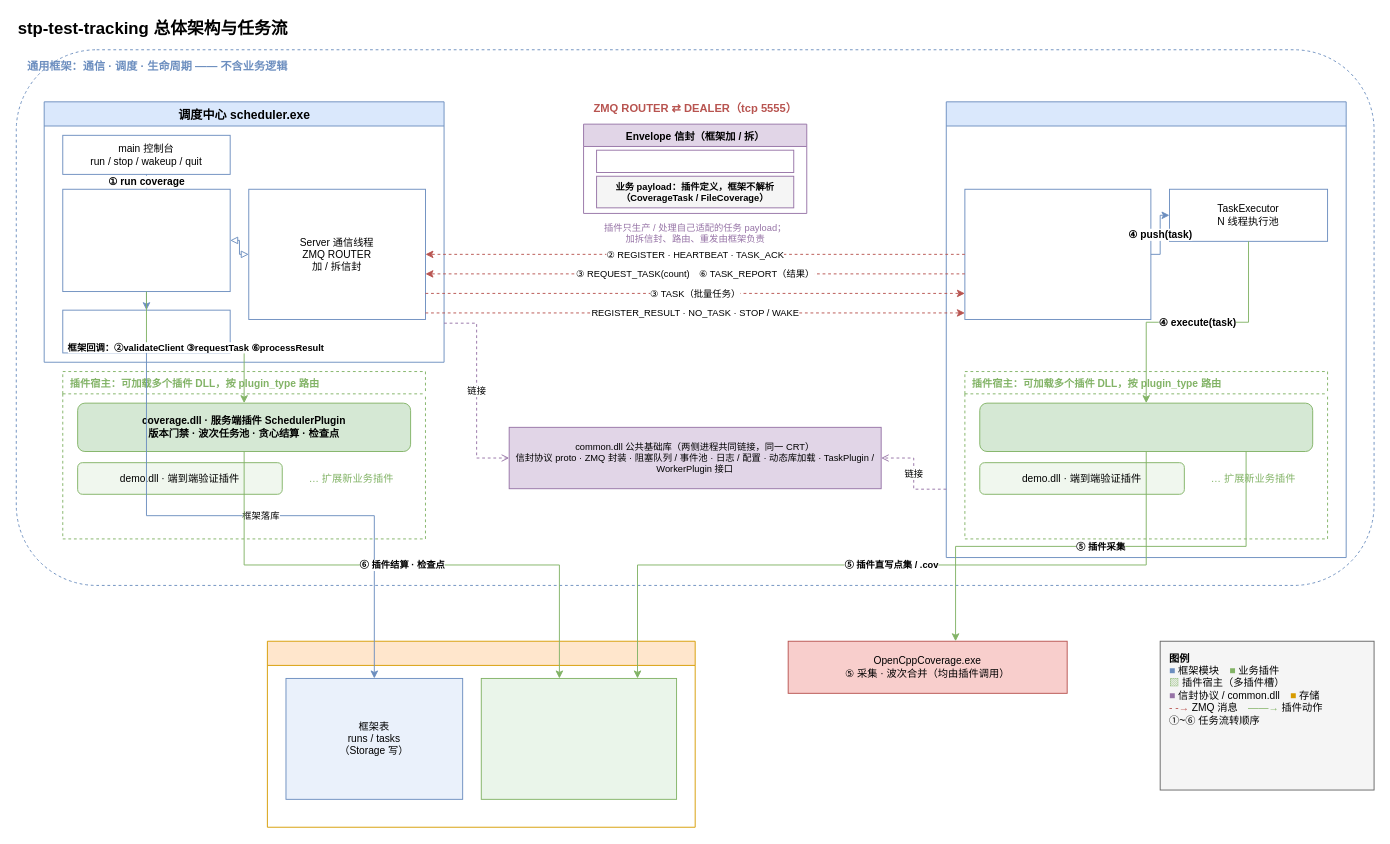
This 1390x844 diagram has some shape labels left out. Here are the shapes that lost their labels. From the top down, the box of each, then its label:
(596, 149, 794, 173): type · plugin_type（框架路由字段）
(62, 188, 230, 292): Scheduler 调度 客户端表 · 在飞记账 派发 · 回收 · STOP / 恢复
(964, 188, 1151, 319): Client 状态机（主线程） ZMQ DEALER · 加 / 拆信封 注册 · 计数拉取 · 上报 STOP 静默 / WAKE 恢复
(62, 309, 230, 353): Storage 持久化 runs / tasks 落库
(945, 101, 1346, 558): 客户端 client.exe（每台测试机）
(979, 402, 1313, 452): coverage.dll · 客户端插件 ClientPlugin execute(task)：逐文件采集 · 幂等跳过 · 入库
(266, 640, 695, 827): PostgreSQL
(480, 678, 677, 799): 业务表 coverage_* 点集 / .cov · 累计 检查点 · ★selected （插件读写）
